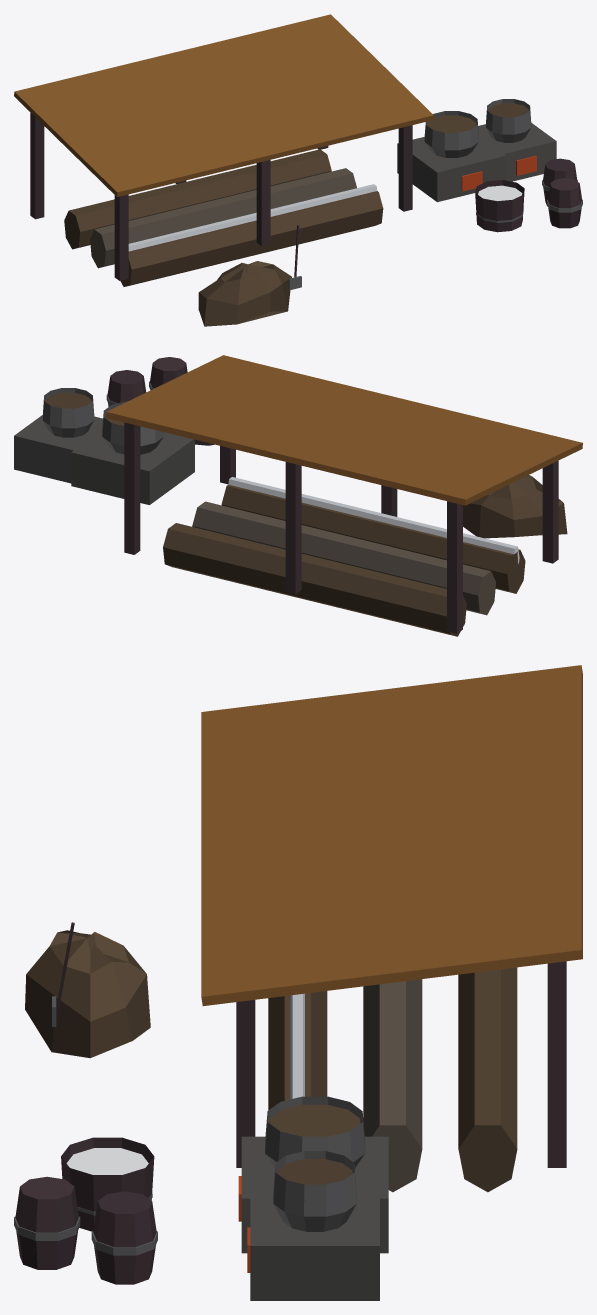
The model's file is walk_hive_saltpeter.glb.
The picture shows the model from 3 angles, top to bottom: view 1: azimuth 30°, elevation 25°; view 2: azimuth 150°, elevation 25°; view 3: azimuth 270°, elevation 25°; orthographic projection. The views are drawn at different scales.
Parts seen in each view (by area): view 1: walk_hive_saltpeter, walk_hive_saltpeter_roof; view 2: walk_hive_saltpeter, walk_hive_saltpeter_roof; view 3: walk_hive_saltpeter_roof, walk_hive_saltpeter.
Boxes of the visible parts, x1,y1,x2,y2 form: walk_hive_saltpeter: (30,99,582,326); walk_hive_saltpeter_roof: (14,14,433,196); walk_hive_saltpeter: (14,357,567,636); walk_hive_saltpeter_roof: (106,355,582,505); walk_hive_saltpeter_roof: (201,665,582,1006); walk_hive_saltpeter: (14,922,566,1300).
Size of what is drawn, in the model's own units: 11.15 by 3.47 by 6.58.
2 materials, 2 textured.
